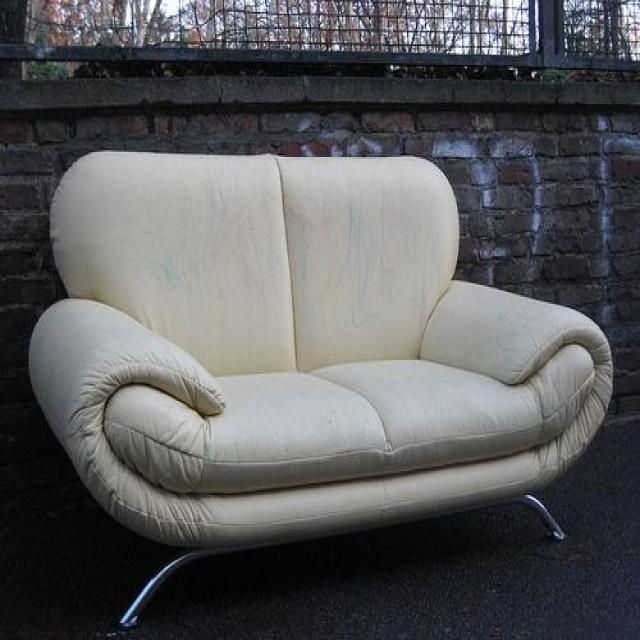sofa: (25, 152, 616, 635)
